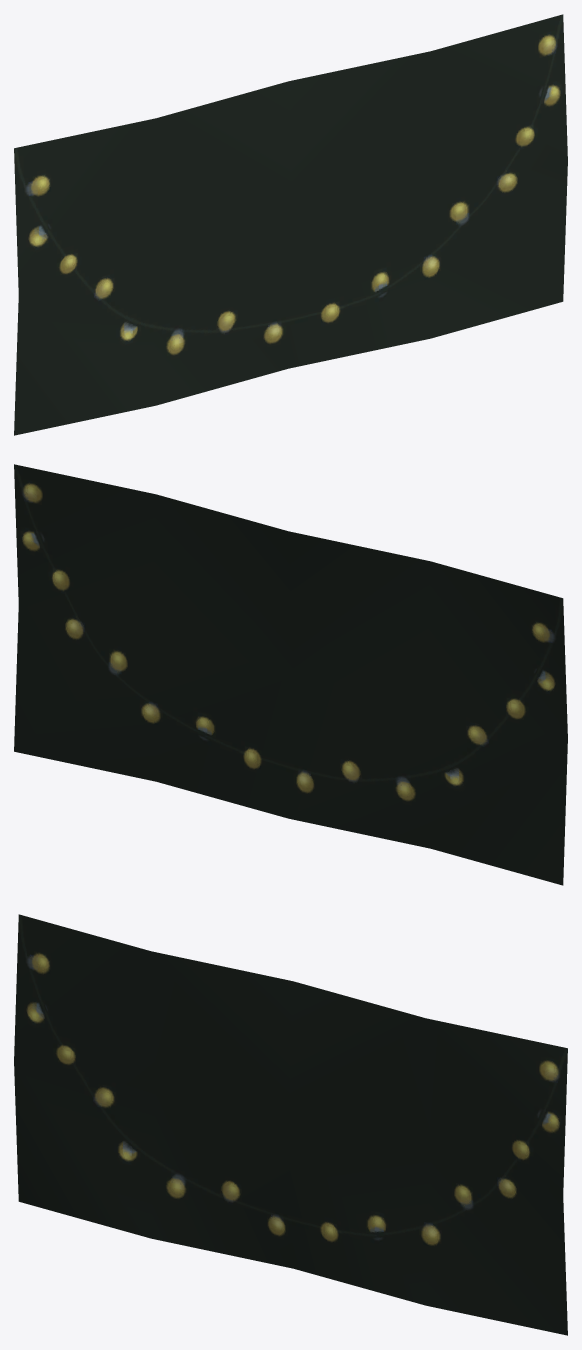
File: guirnaldasLuces_1.fbx
3 renders of one model, top to bottom at view 1: azimuth 30°, elevation 25°; view 2: azimuth 150°, elevation 25°; view 3: azimuth 330°, elevation 25°, orthographic.
Visible parts, largest first — view 1: s4studio_mesh_0; view 2: s4studio_mesh_0; view 3: s4studio_mesh_0.
Part boxes in pixels (bbox=[...]): s4studio_mesh_0: bbox=[14, 14, 567, 435]; s4studio_mesh_0: bbox=[14, 464, 567, 885]; s4studio_mesh_0: bbox=[14, 914, 567, 1335].
Bounding box in the file's own units: 200 × 100 × 3.
Materials: 1 (1 with a texture image).
